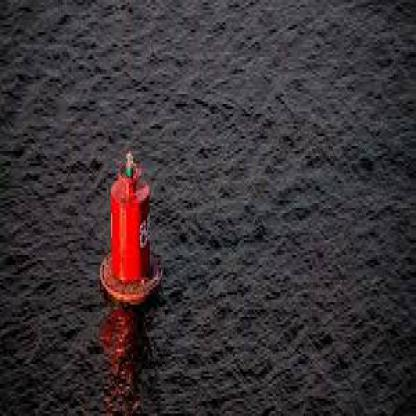buoy: (96, 136, 167, 312)
